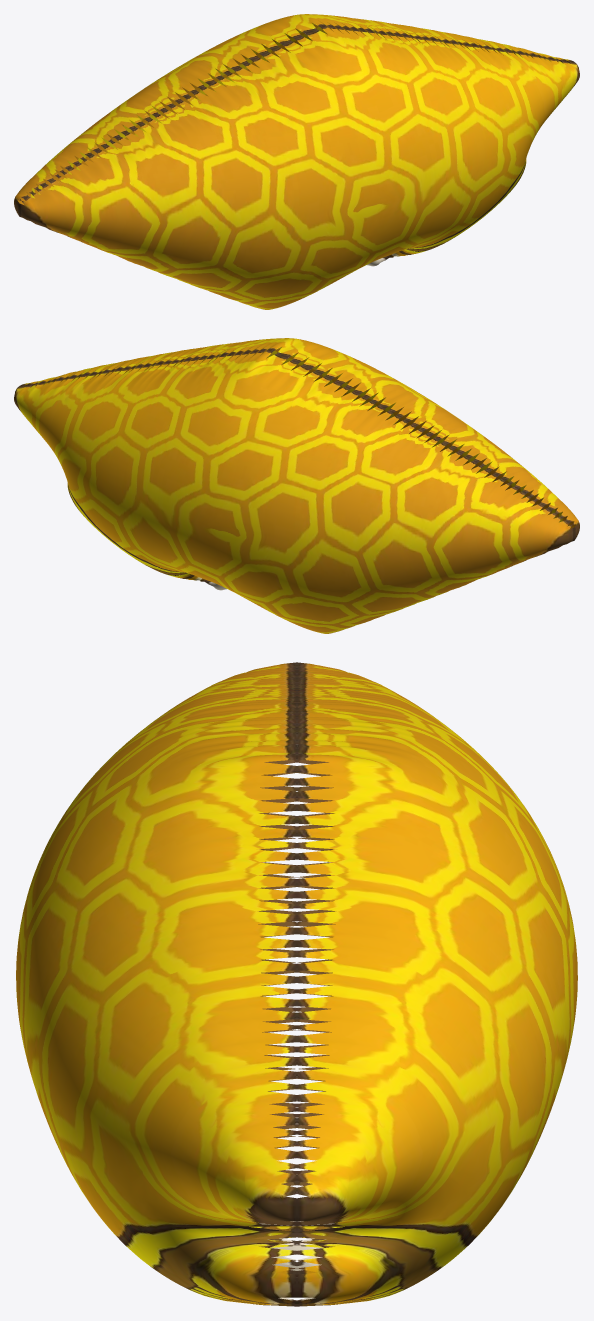
File: solar_wing.glb
The picture shows the model from 3 angles, top to bottom: view 1: azimuth 30°, elevation 25°; view 2: azimuth 150°, elevation 25°; view 3: azimuth 270°, elevation 25°; orthographic projection. The views are drawn at different scales.
Parts seen in each view (by area): view 1: solar_wing; view 2: solar_wing; view 3: solar_wing.
Part boxes in pixels (bbox=[...]): solar_wing: bbox=[14, 14, 579, 309]; solar_wing: bbox=[14, 338, 579, 633]; solar_wing: bbox=[16, 662, 577, 1306].
Size of the model in its own units: 0.989 by 0.4394 by 0.4326.
1 material, 1 textured.
